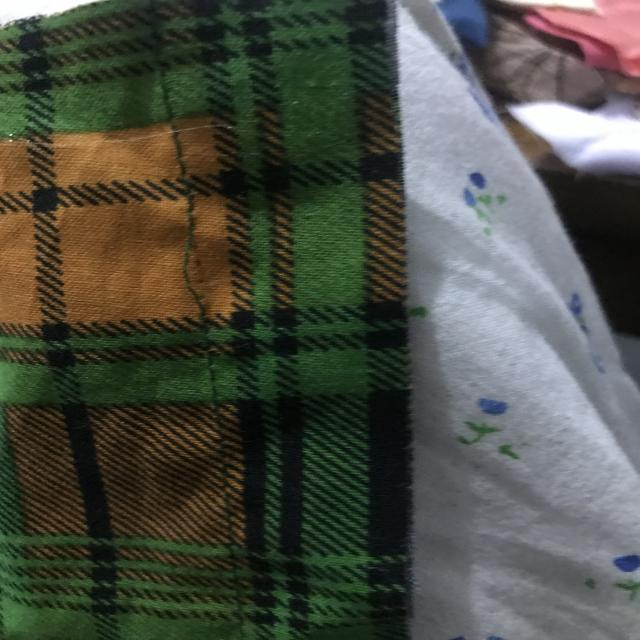good: (201, 374, 252, 477)
skip: (152, 214, 222, 320)
